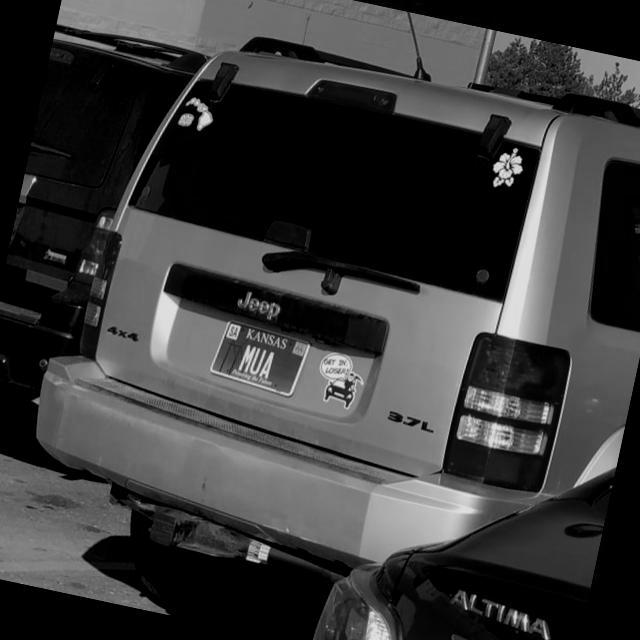LicensePlate: (207, 317, 312, 398)
